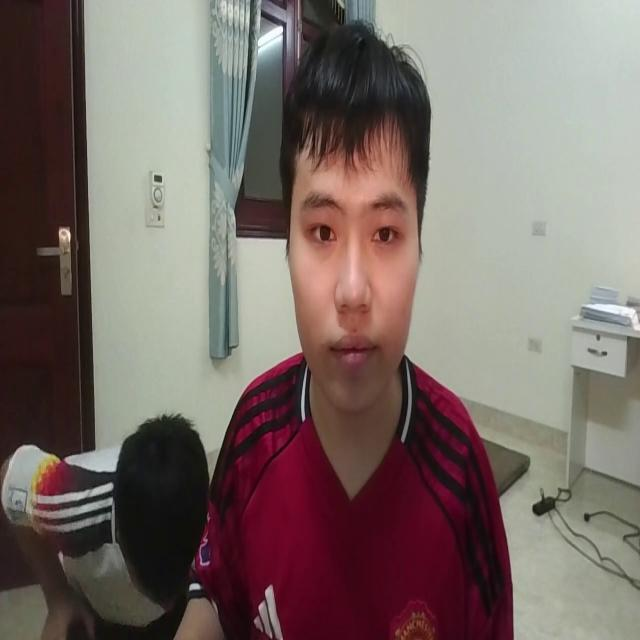extra_person: (6, 403, 215, 640)
student: (203, 19, 514, 640)
